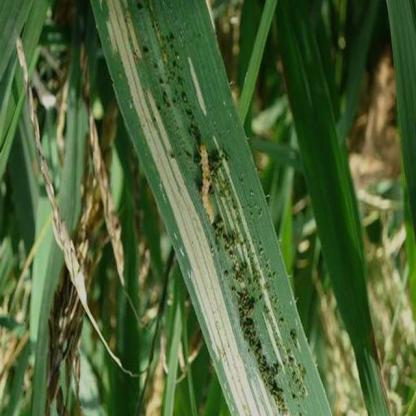leaf-folder: (187, 140, 227, 232)
